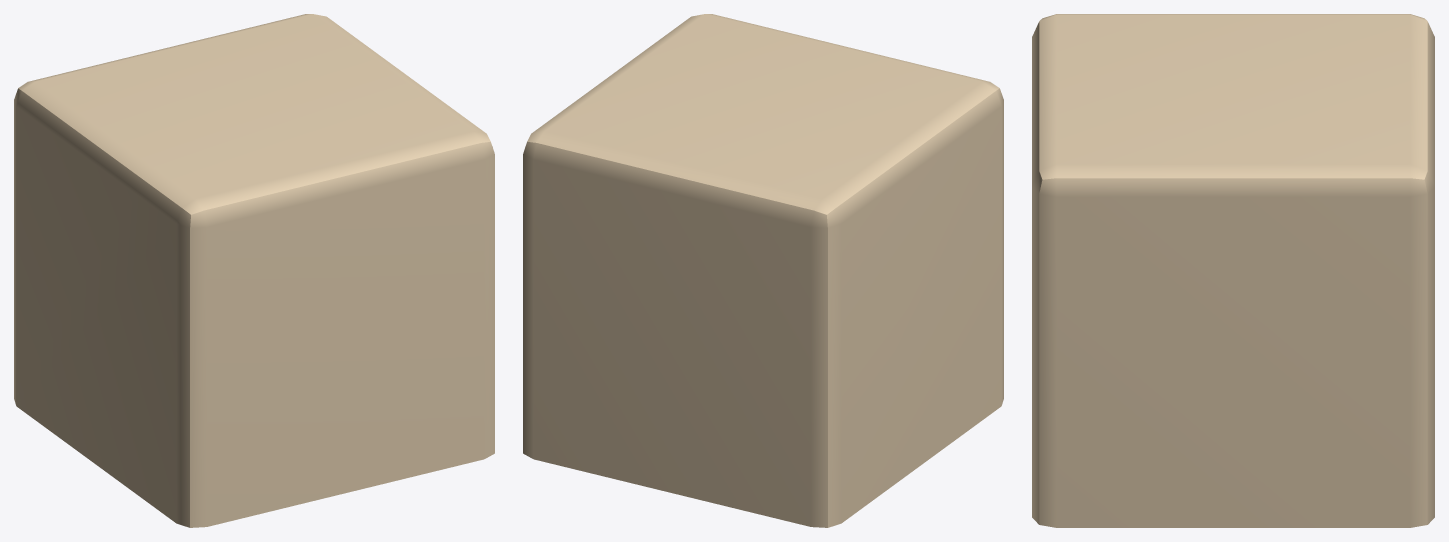
Rendered from Wall.fbx.
3 renders of one model, left to right at view 1: azimuth 30°, elevation 25°; view 2: azimuth 150°, elevation 25°; view 3: azimuth 270°, elevation 25°, orthographic. The views are drawn at different scales.
Parts seen in each view (by area): view 1: Wall; view 2: Wall; view 3: Wall.
Boxes of the visible parts, x1,y1,x2,y2 form: Wall: (14,14,494,527); Wall: (523,14,1003,527); Wall: (1032,14,1434,527).
Size of the model in its own units: 100 by 96.73 by 100.
